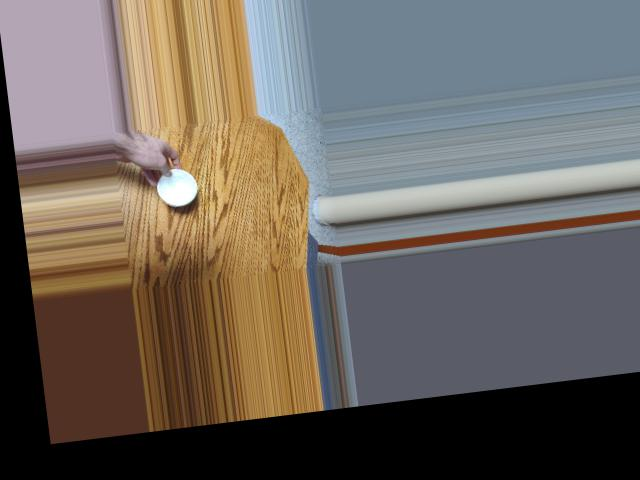cotage: (148, 160, 203, 210)
